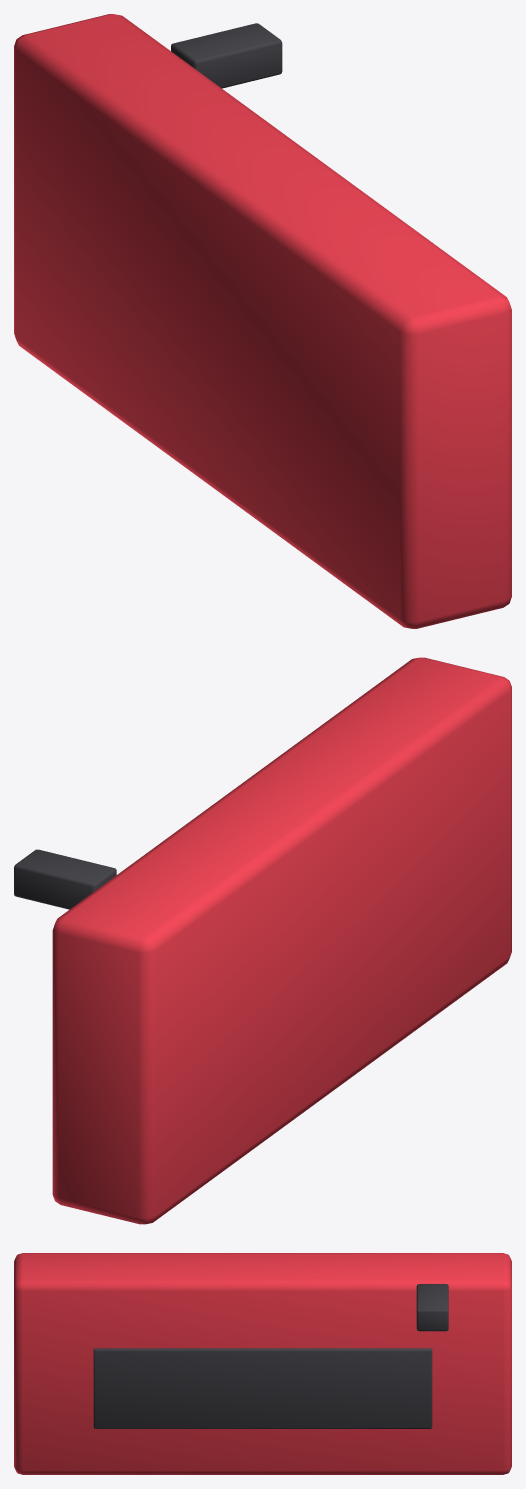
File: hypercar_door_butterfly_right.glb
The picture shows the model from 3 angles, top to bottom: view 1: azimuth 30°, elevation 25°; view 2: azimuth 150°, elevation 25°; view 3: azimuth 270°, elevation 25°; orthographic projection. The views are drawn at different scales.
Parts seen in each view (by area): view 1: Hypercar_Door_Butterfly_Right; view 2: Hypercar_Door_Butterfly_Right; view 3: Hypercar_Door_Butterfly_Right.
Part boxes in pixels (x1,y1,x2,y2): Hypercar_Door_Butterfly_Right: [14, 14, 511, 628]; Hypercar_Door_Butterfly_Right: [14, 657, 511, 1224]; Hypercar_Door_Butterfly_Right: [14, 1253, 511, 1474].
Size of the model in its own units: 0.36 by 0.54 by 1.25.
